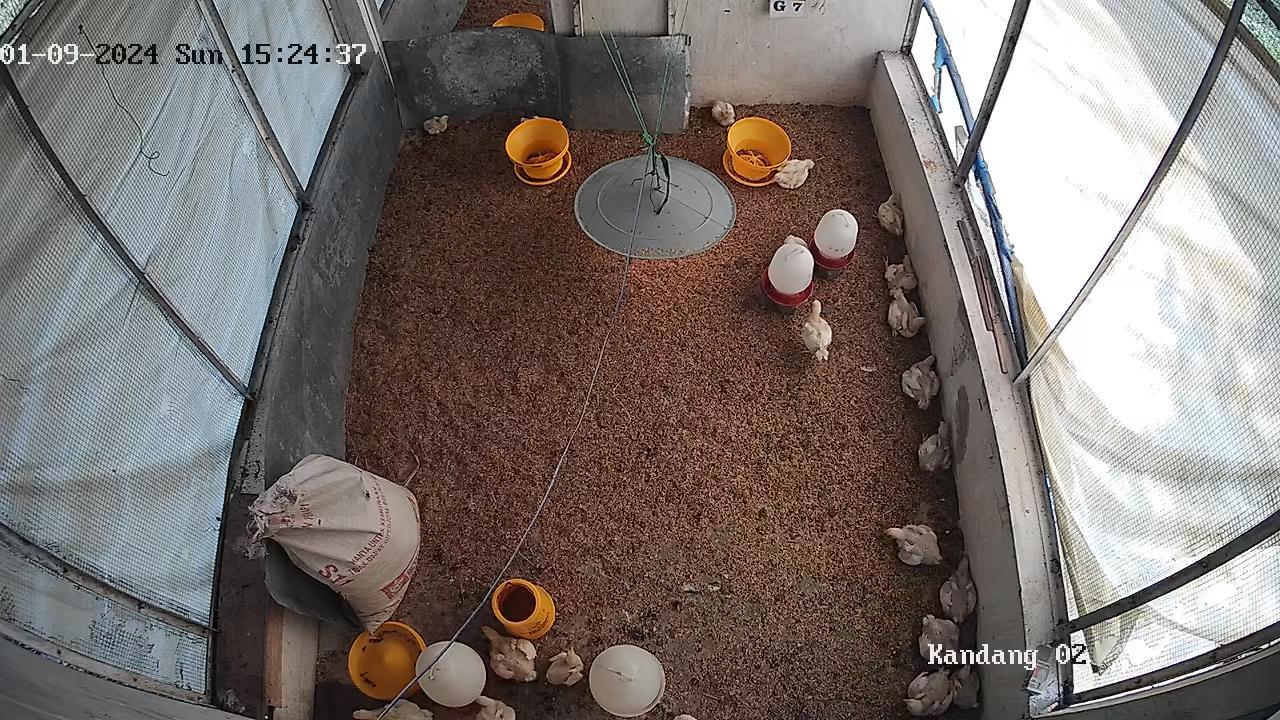chicken: (480, 624, 539, 684), (900, 666, 954, 720), (917, 612, 968, 667), (940, 553, 978, 624), (880, 523, 942, 566), (901, 352, 941, 412), (349, 694, 436, 720), (799, 298, 833, 363), (888, 291, 931, 340), (916, 420, 953, 474), (545, 645, 584, 689), (876, 188, 907, 239), (763, 158, 814, 189), (951, 664, 984, 711), (885, 251, 917, 295), (472, 693, 517, 720), (710, 99, 737, 126), (422, 113, 451, 135), (783, 233, 808, 249)
